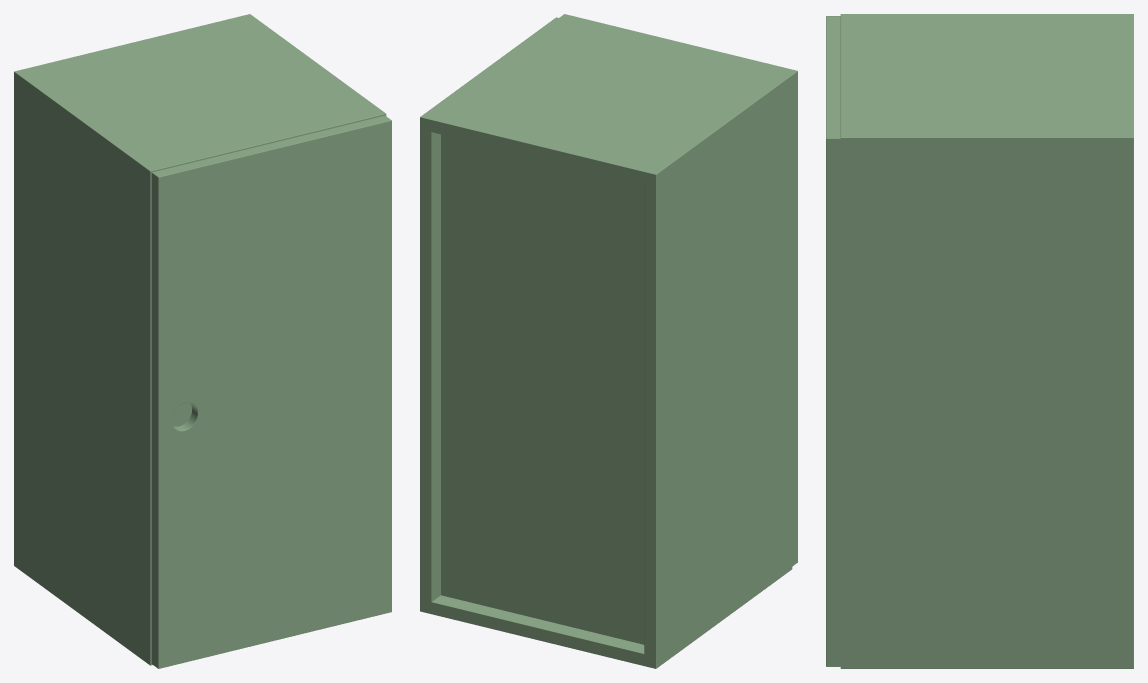
Rendered from MOD-1X2-D-B-IZQ-SA.glb.
The picture shows the model from 3 angles, left to right: view 1: azimuth 30°, elevation 25°; view 2: azimuth 150°, elevation 25°; view 3: azimuth 270°, elevation 25°; orthographic projection. The views are drawn at different scales.
Size of the model in its own units: 360 by 720 by 378.
